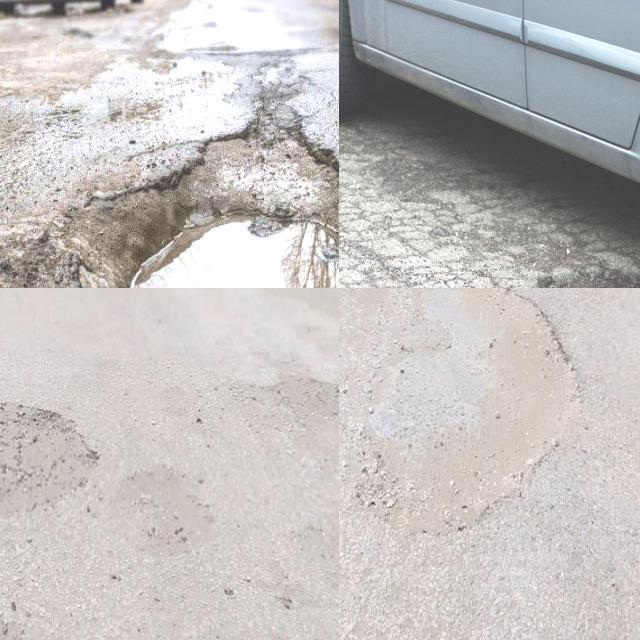Pothole: (348, 288, 584, 548), (63, 100, 339, 288), (0, 398, 99, 522)
